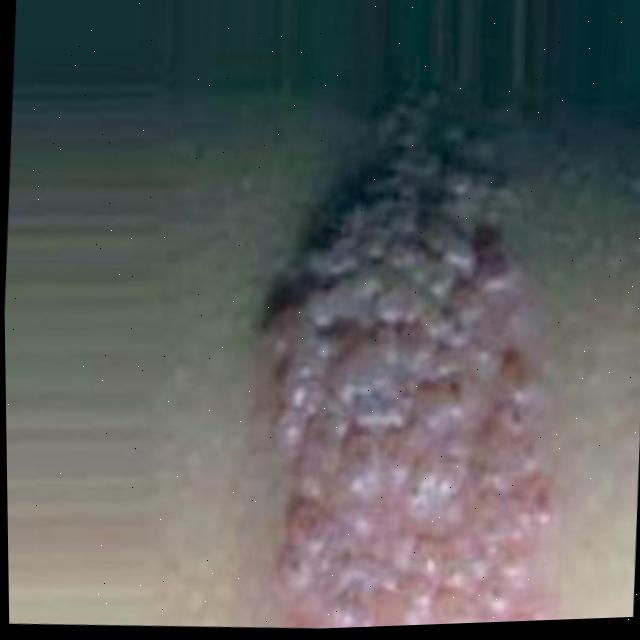Shingles: (226, 78, 587, 632)
